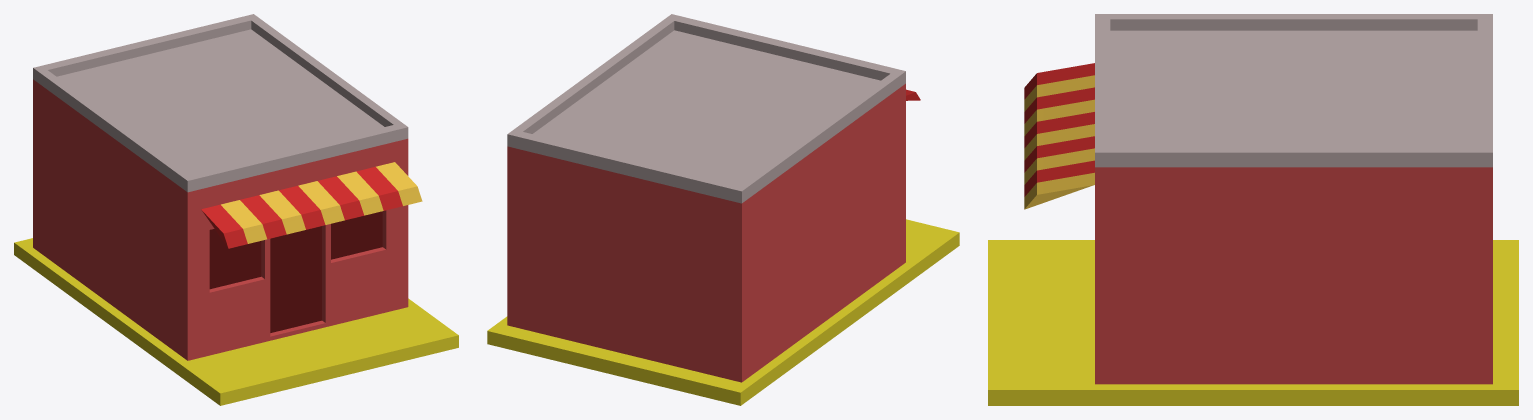
Rendered from Tienda.FBX.
The picture shows the model from 3 angles, left to right: view 1: azimuth 30°, elevation 25°; view 2: azimuth 150°, elevation 25°; view 3: azimuth 270°, elevation 25°; orthographic projection. The views are drawn at different scales.
Parts seen in each view (by area): view 1: Tienda; view 2: Tienda; view 3: Tienda.
Part boxes in pixels (x1=…): Tienda: x1=14, y1=14, x2=458, y2=405; Tienda: x1=487, y1=14, x2=959, y2=405; Tienda: x1=988, y1=14, x2=1518, y2=405.
Size of the model in its own units: 981 by 756 by 1468.
